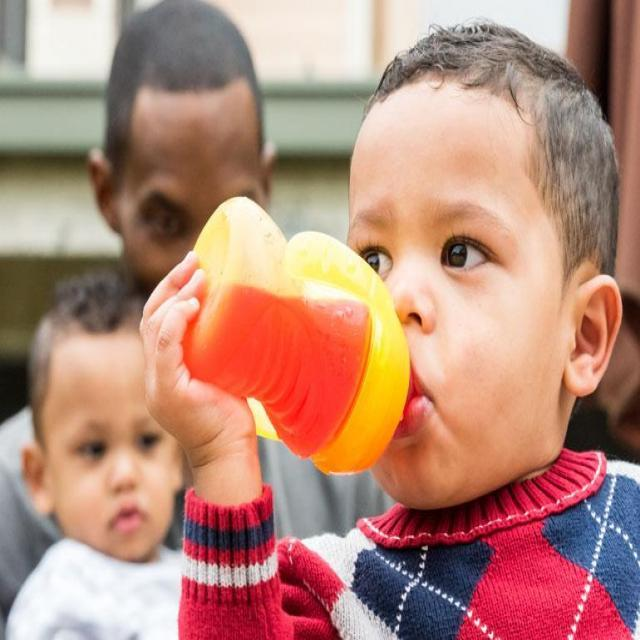child: (144, 26, 634, 640), (7, 271, 187, 639)
